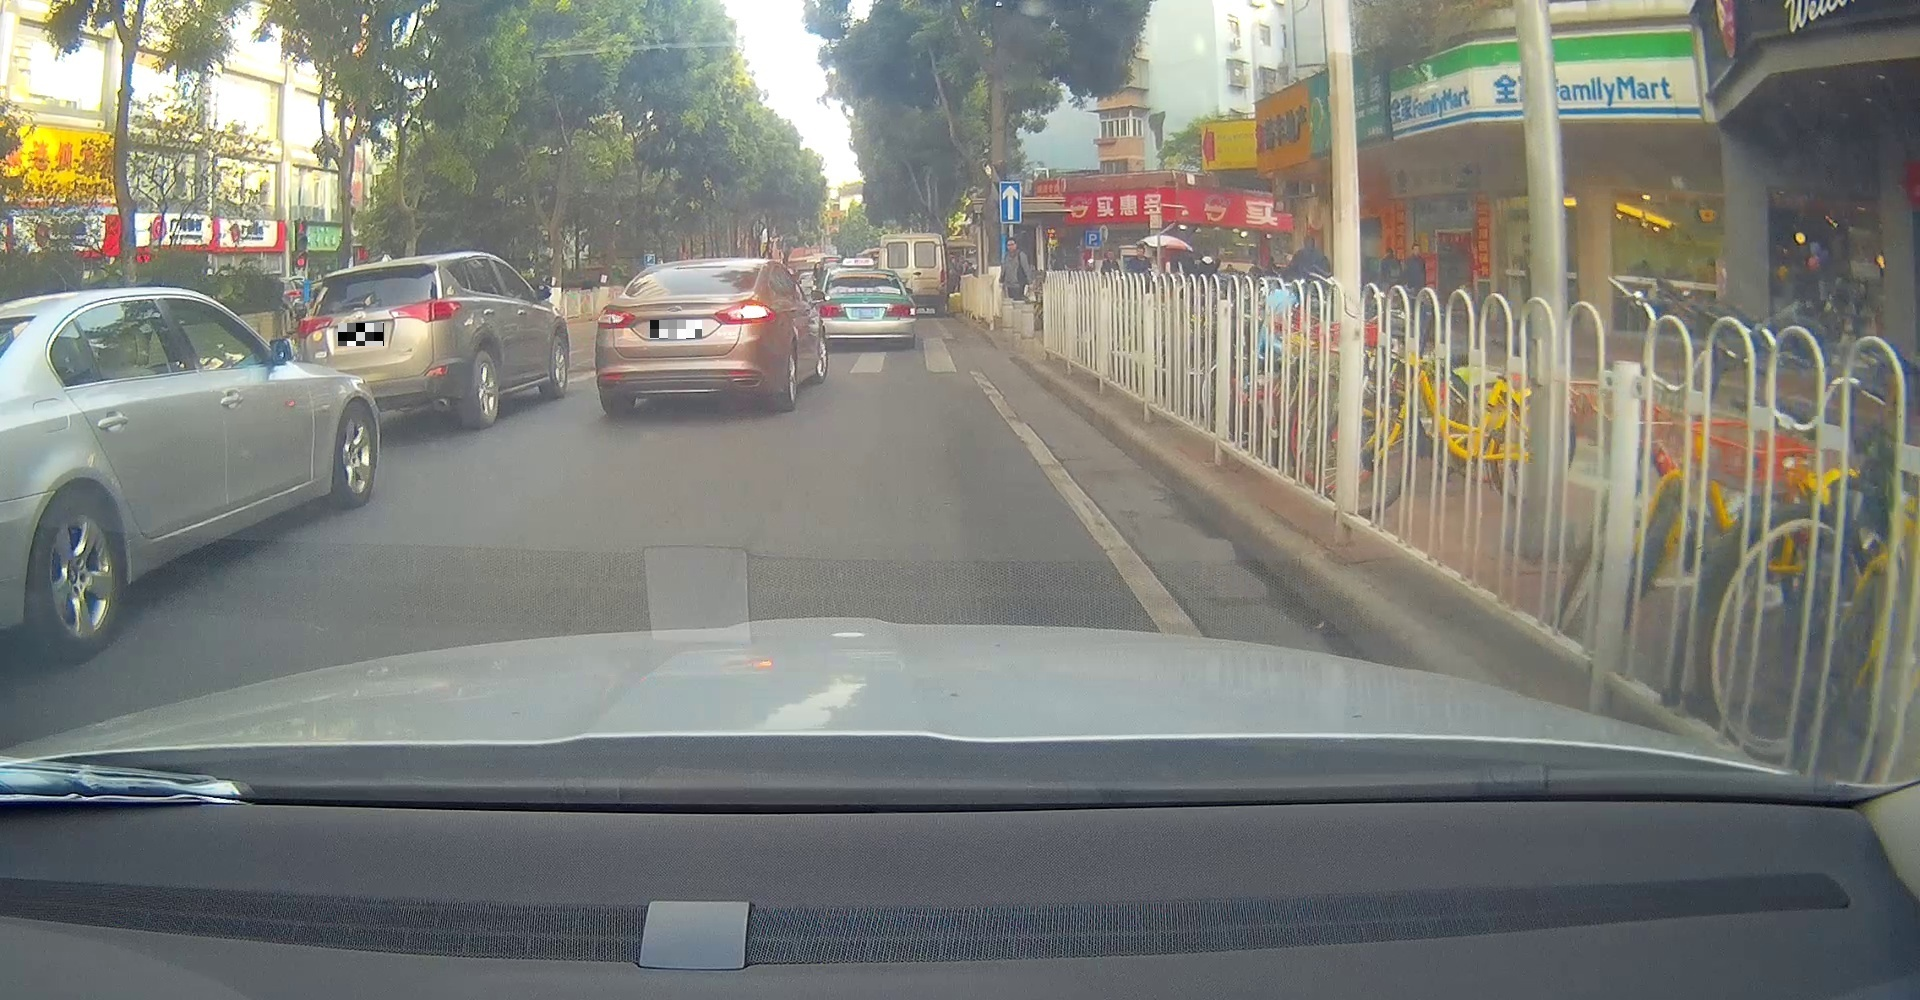L_light: (597, 307, 637, 329), (297, 316, 333, 339), (819, 305, 844, 319)
R_light: (389, 298, 461, 322), (714, 299, 776, 325), (885, 305, 916, 319)
T_light: (684, 264, 709, 270), (350, 307, 373, 312), (857, 273, 874, 277)
day-no: (297, 259, 462, 431)
day-right: (593, 258, 778, 415), (818, 256, 916, 349)
plate_1: (338, 324, 383, 346)
plate_2: (650, 320, 702, 339)
